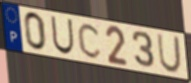0: (23, 12, 49, 52)
2: (104, 24, 130, 69)
3: (130, 30, 156, 70)
C: (76, 22, 103, 61)
U: (156, 32, 182, 75), (49, 15, 75, 56)
